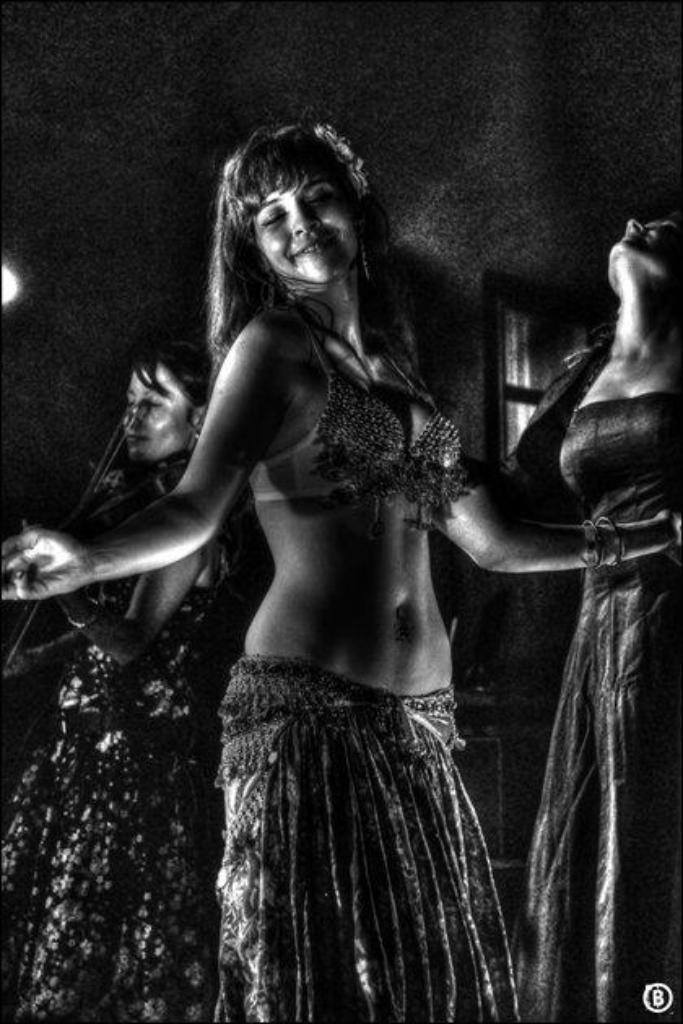face: (120, 355, 190, 462)
